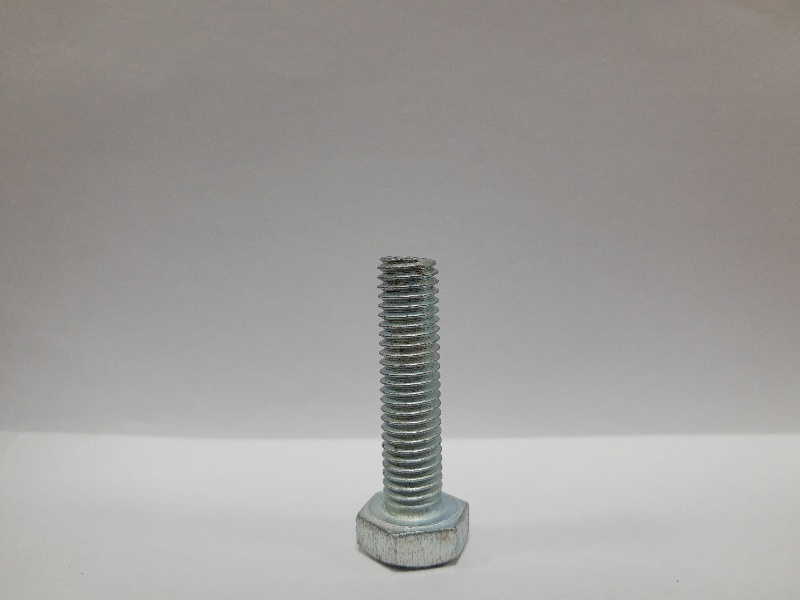pf: (352, 257, 480, 576)
